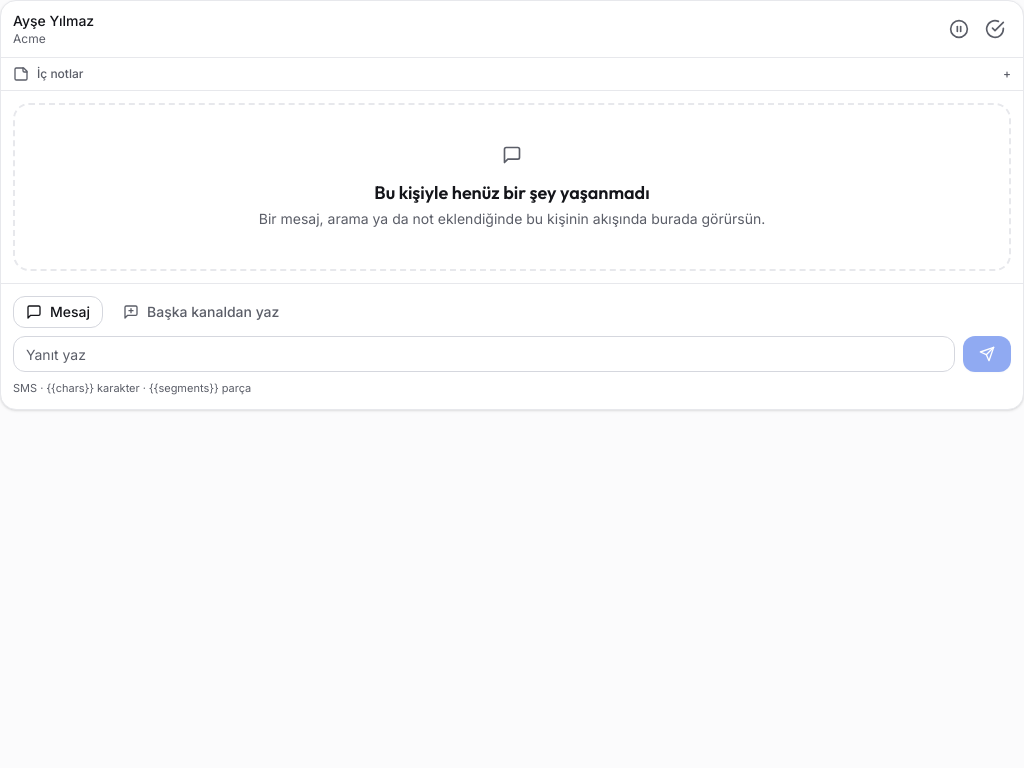
Test: PersonPane — a note carries its date, and the panel carries its count › dates each note — an undated handover note cannot be told from a stale one
Click the button "İç notlar +".
click(60, 74)  # box [13, 66, 1011, 82]
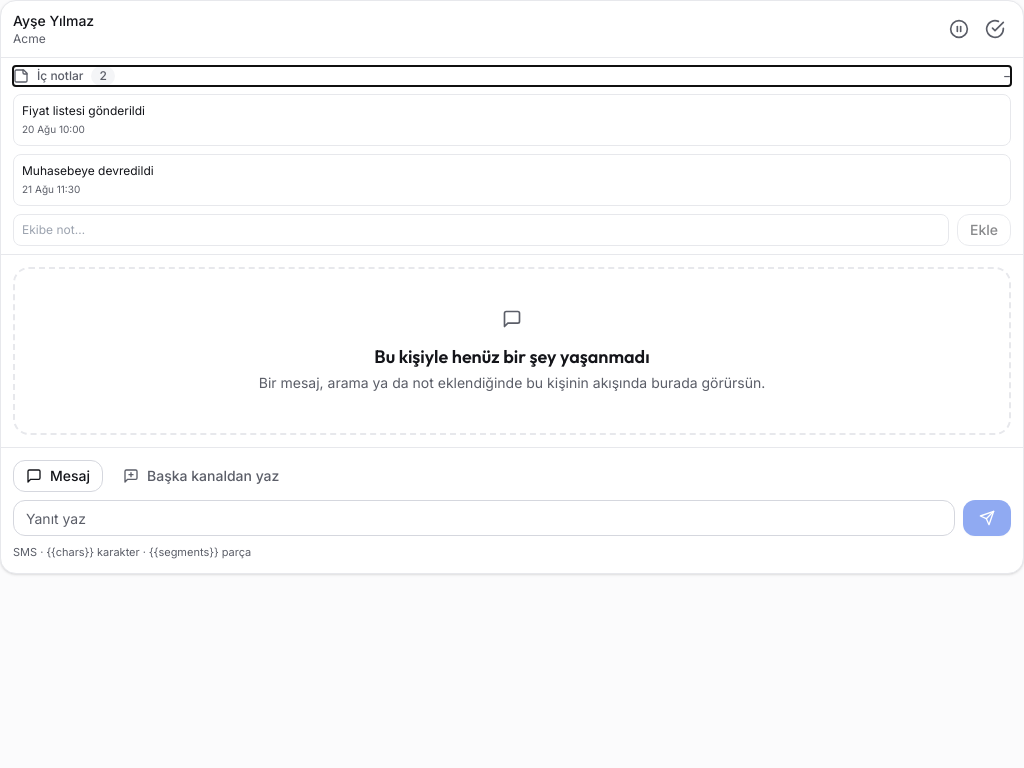
Now the element with test id "person-pane-note-n1" shows "Fiyat listesi gönderildi", box [22, 103, 145, 118]
Now the text "20 Ağu 10:00" is not empty, box [22, 123, 85, 135]
